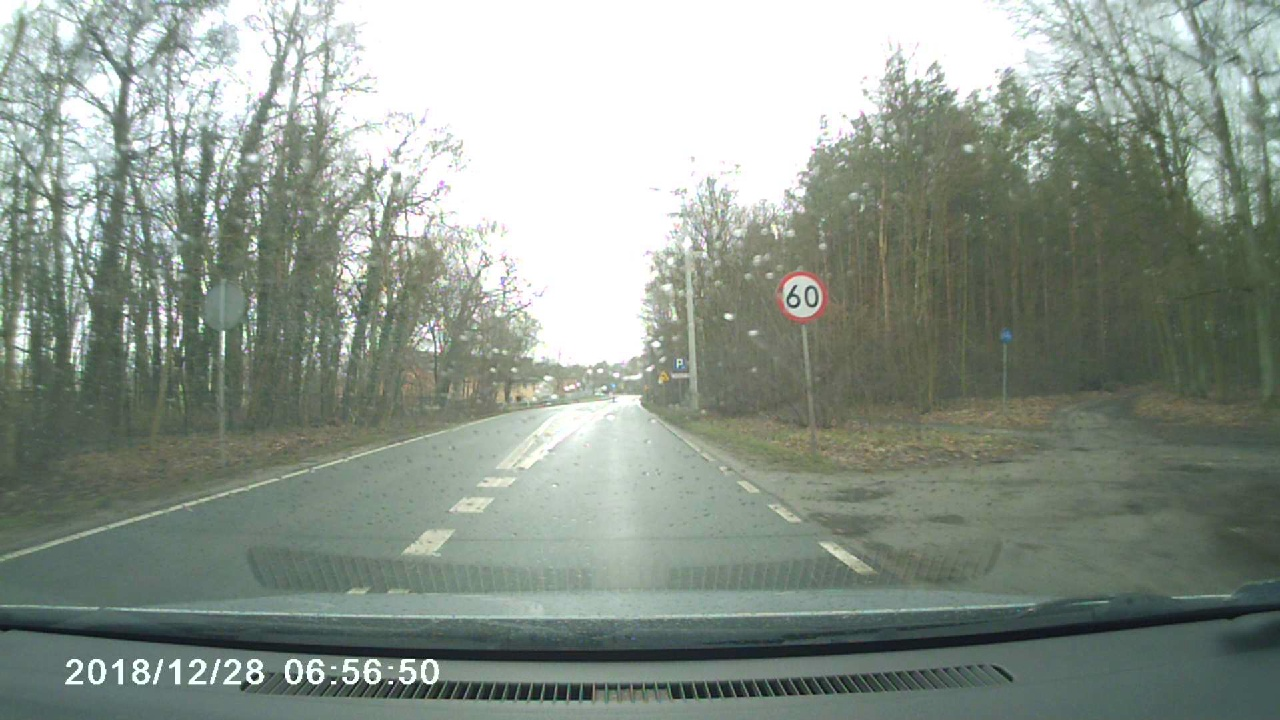B33_60: (770, 265, 835, 328)
